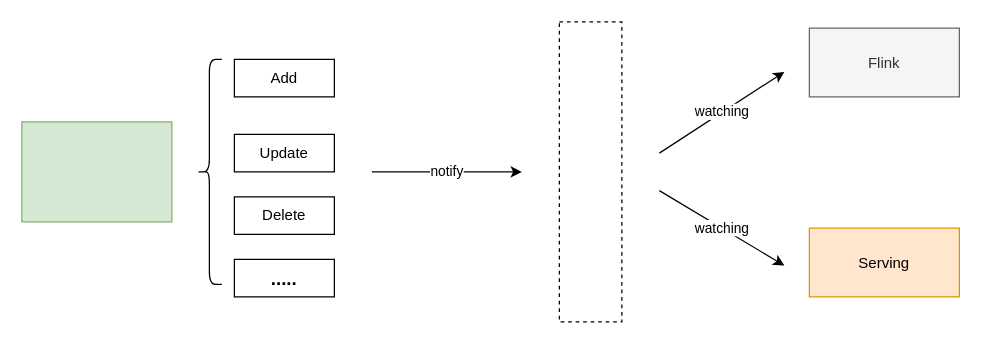
The diagram is 981 pixels wide and 344 high, and some of its shapes have lost their labels. The shapes that lost their labels are listed below. From the top down, each one's centre as x and y in pixels, then its label:
At (96,171): "管理时".
At (590,171): "TConf".
